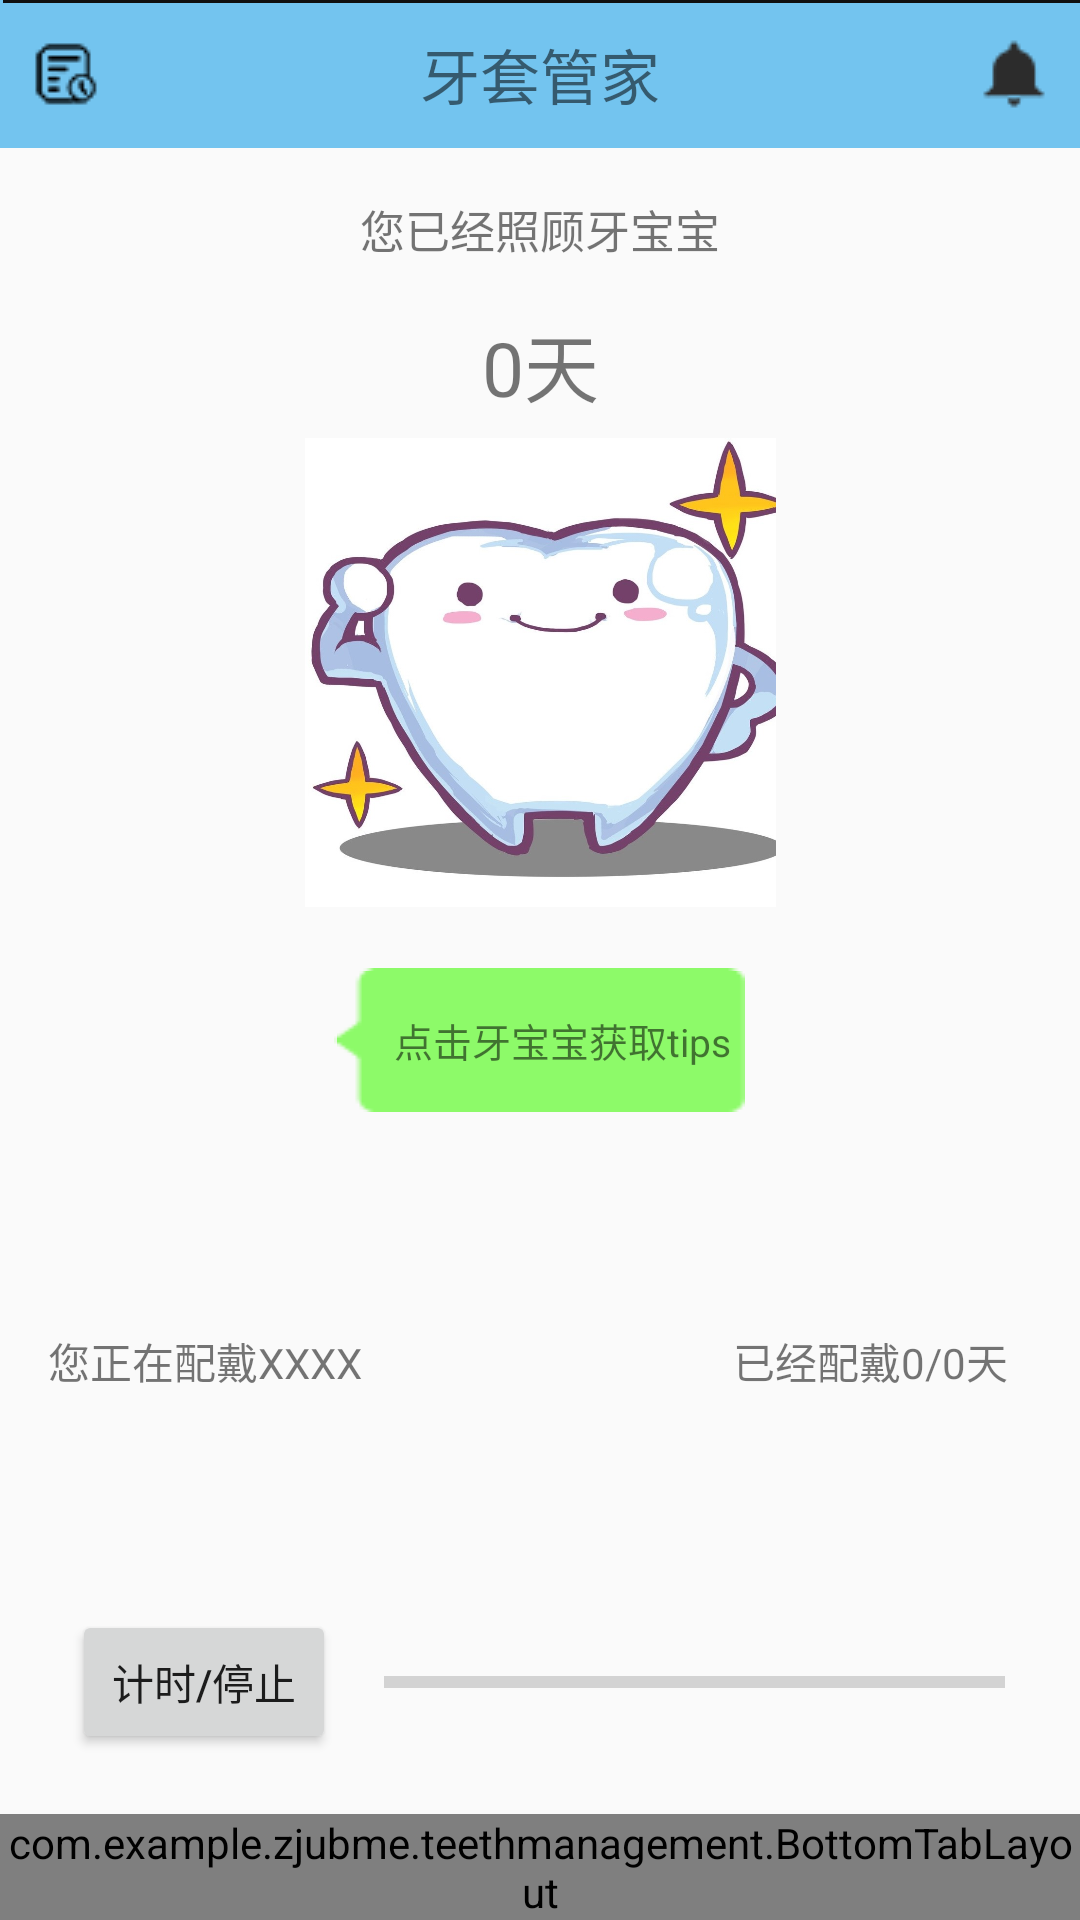

Icon bounding boxes for this 1080*1920 phone screenshot, format (x1, y1, x2, y2):
todo: (35, 43, 97, 105)
